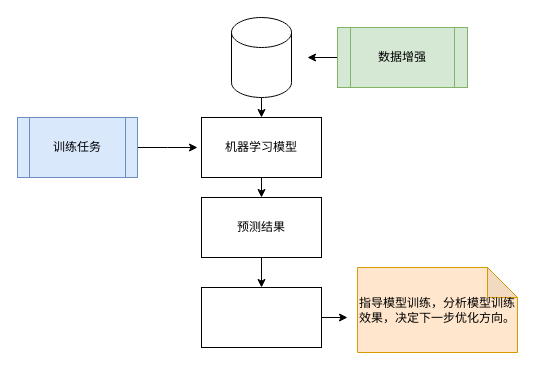
Image size: 535x370. Some labels were removed from this diagram. The box of each missing label's shape, as (x1, y1, x2, y2) in pixels:
数据集: (230, 16, 292, 98)
混淆矩阵: (200, 286, 322, 348)
